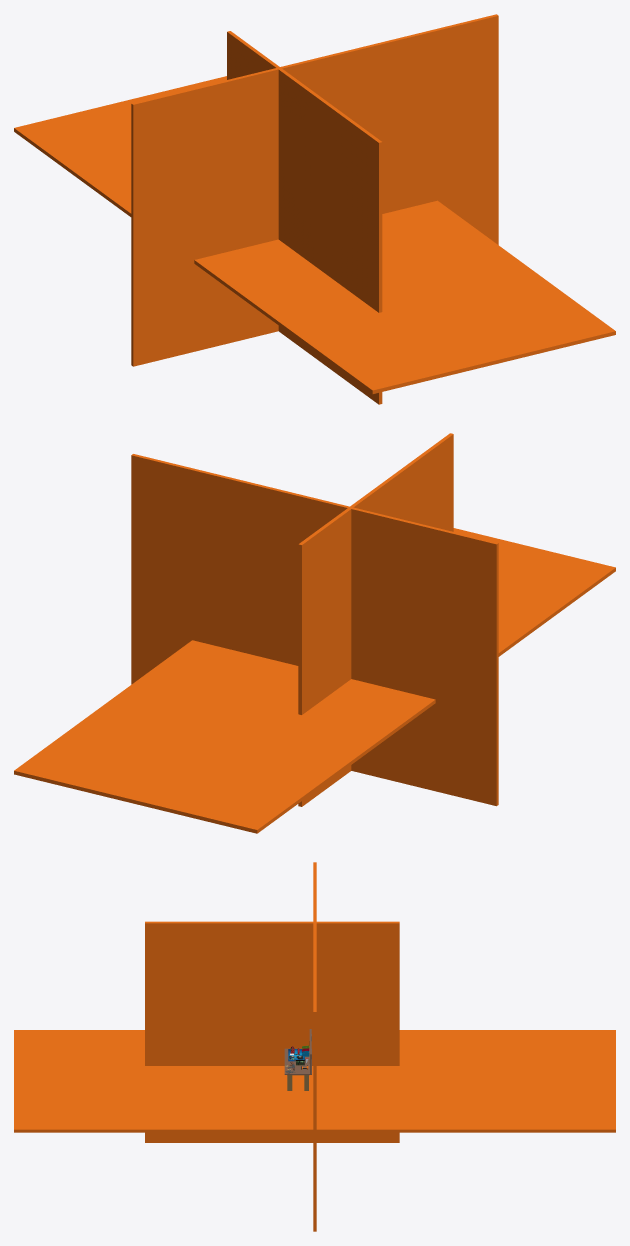
The model's file is workbench.glb.
3 renders of one model, top to bottom at view 1: azimuth 30°, elevation 25°; view 2: azimuth 150°, elevation 25°; view 3: azimuth 270°, elevation 25°, orthographic. The views are drawn at different scales.
Visible parts, largest first — view 1: Cube.176, Cube.178, Cube.179; view 2: Cube.176, Cube.178, Cube.179; view 3: Cube.178, Cube.179, Cube.176, Cube.116.
Boxes of the visible parts, x1,y1,x2,y2 form: Cube.176: [131, 14, 498, 366]; Cube.178: [14, 76, 615, 393]; Cube.179: [227, 31, 382, 404]; Cube.176: [131, 454, 498, 806]; Cube.178: [14, 528, 615, 833]; Cube.179: [298, 433, 453, 806]; Cube.178: [14, 1030, 615, 1132]; Cube.179: [145, 921, 399, 1142]; Cube.176: [313, 862, 316, 1231]; Cube.116: [284, 1029, 311, 1090].
Bounding box in the file's own units: 35.73 × 24.46 × 60.75.
Materials: 1 (1 with a texture image).
